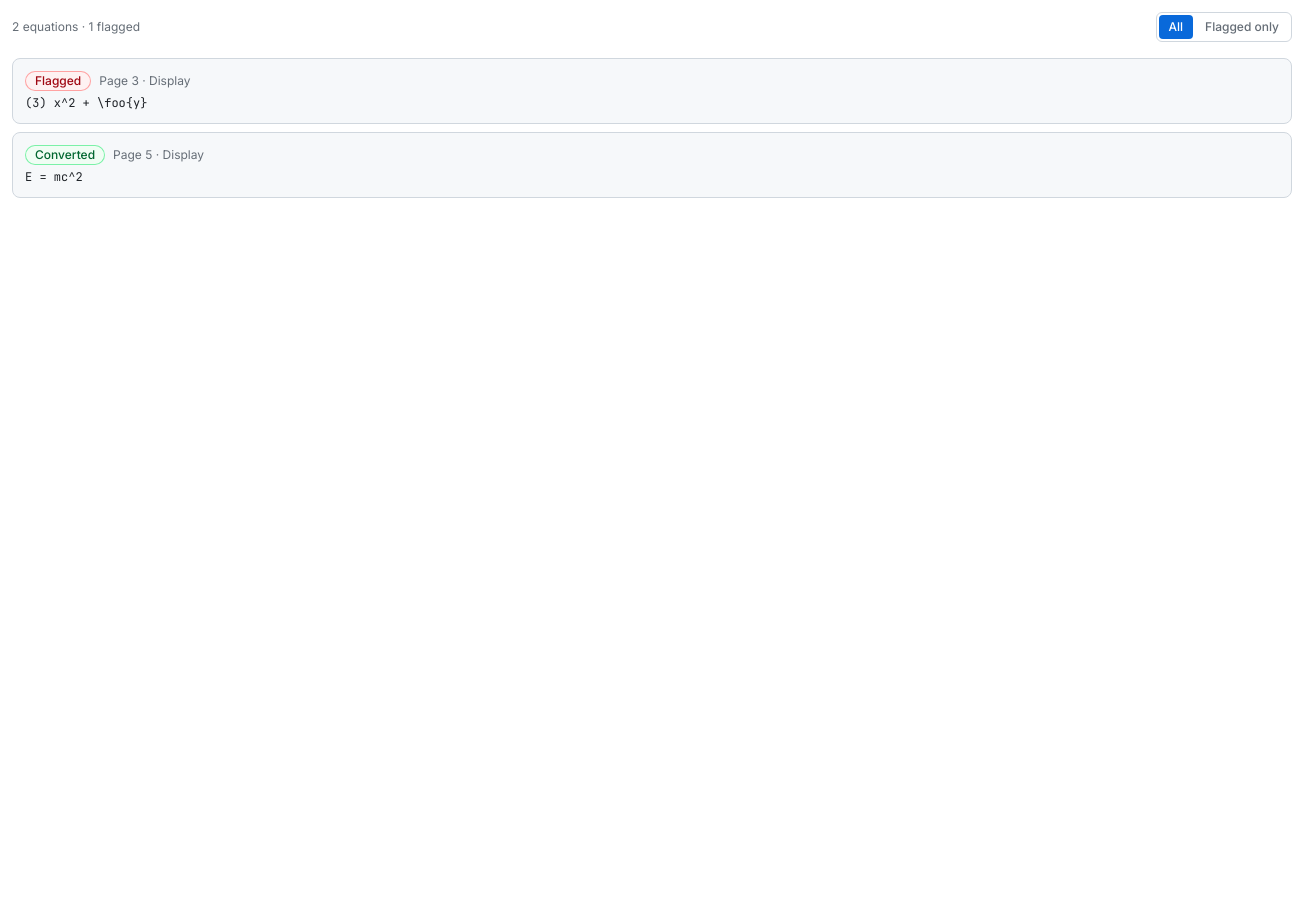
Test: EquationsPanel › opens the detail with the LaTeX, Unicode rendering and the flag reasons
This screenshot has width=1304, height=912.
Click the text "(3) x^2 + \\foo{y}".
click(86, 103)  # box [25,95,147,111]
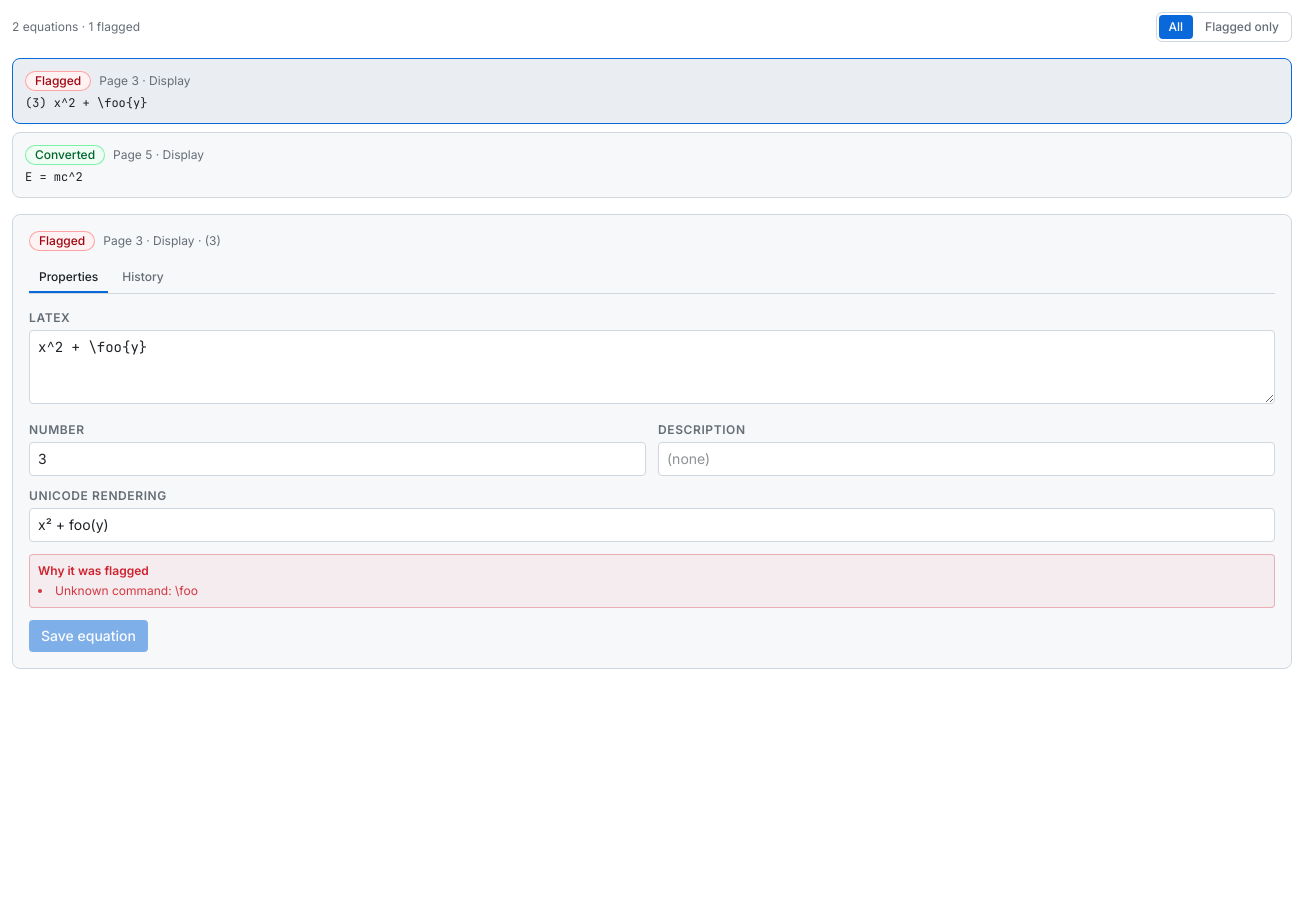
expect the text box labelled "LaTeX" holds "x^2 + \\foo{y}": met, box [29,330,1275,404]
expect the text "x² + foo(y)" is shown: met, box [29,508,1275,542]
expect the text "Why it was flagged" is shown: met, box [38,563,149,578]
